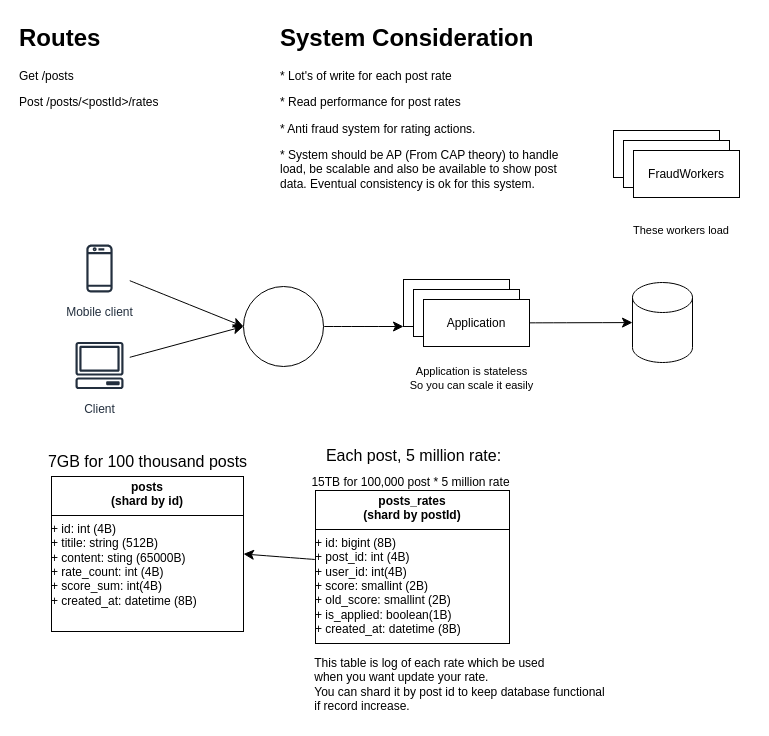
This 769x736 diagram has some shape labels left out. Here are the shapes that lost their labels. From the top down, the centre of each, then its label:
the point at 283,326: Load balancer (Nginx)
the point at 662,322: Database
